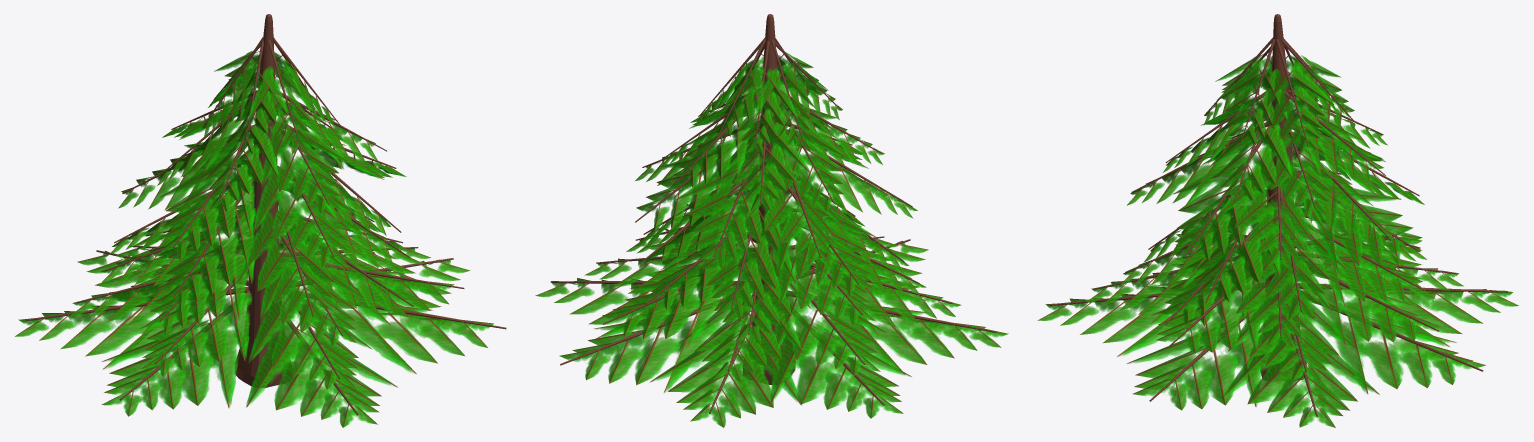
File: Tree-1.glb
The picture shows the model from 3 angles, left to right: view 1: azimuth 30°, elevation 25°; view 2: azimuth 150°, elevation 25°; view 3: azimuth 270°, elevation 25°; orthographic projection. The views are drawn at different scales.
Parts seen in each view (by area): view 1: Cylinder.207, Plane.378, Plane.423, Plane.379, Plane.433, Plane.434, Plane.424, Plane.448, Plane.500, Plane.449, Plane.369, Plane.632 (+46 smaller); view 2: Cylinder.207, Plane.399, Plane.374, Plane.398, Plane.373, Plane.384, Plane.389, Plane.444, Plane.662, Plane.591, Plane.469, Plane.375 (+58 smaller); view 3: Cylinder.207, Plane.404, Plane.419, Plane.403, Plane.414, Plane.418, Plane.487, Plane.429, Plane.473, Plane.680, Plane.424, Plane.420 (+58 smaller).
Boxes of the visible parts, <box> form: Cylinder.207: <box>234,14,290,387</box>; Plane.378: <box>205,322,238,407</box>; Plane.423: <box>332,302,416,373</box>; Plane.379: <box>175,348,213,405</box>; Plane.433: <box>246,330,297,407</box>; Plane.434: <box>274,360,315,410</box>; Plane.424: <box>372,312,437,363</box>; Plane.448: <box>220,288,252,361</box>; Plane.500: <box>271,322,306,367</box>; Plane.449: <box>199,310,230,361</box>; Plane.369: <box>85,306,152,356</box>; Plane.632: <box>257,239,291,291</box>; Cylinder.207: <box>742,14,795,384</box>; Plane.399: <box>634,327,681,385</box>; Plane.374: <box>796,354,834,404</box>; Plane.398: <box>664,310,722,392</box>; Plane.373: <box>770,335,815,402</box>; Plane.384: <box>865,314,927,364</box>; Plane.389: <box>731,353,773,407</box>; Plane.444: <box>792,310,823,359</box>; Plane.662: <box>687,181,739,216</box>; Plane.591: <box>745,235,775,288</box>; Plane.469: <box>664,293,700,339</box>; Plane.375: <box>823,368,852,409</box>; Cylinder.207: <box>1260,14,1306,380</box>; Plane.404: <box>1360,332,1403,388</box>; Plane.419: <box>1201,349,1238,405</box>; Plane.403: <box>1324,315,1368,394</box>; Plane.414: <box>1247,353,1297,404</box>; Plane.418: <box>1222,322,1262,406</box>; Plane.487: <box>1211,302,1241,349</box>; Plane.429: <box>1102,298,1172,343</box>; Plane.473: <box>1339,297,1373,341</box>; Plane.680: <box>1234,189,1277,227</box>; Plane.424: <box>1135,345,1205,378</box>; Plane.420: <box>1183,364,1212,408</box>.
Size of the model in its own units: 7.47 by 6.36 by 7.64.
2 materials, 1 textured.
